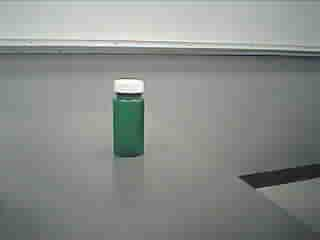Bottle C: (105, 74, 152, 167)
